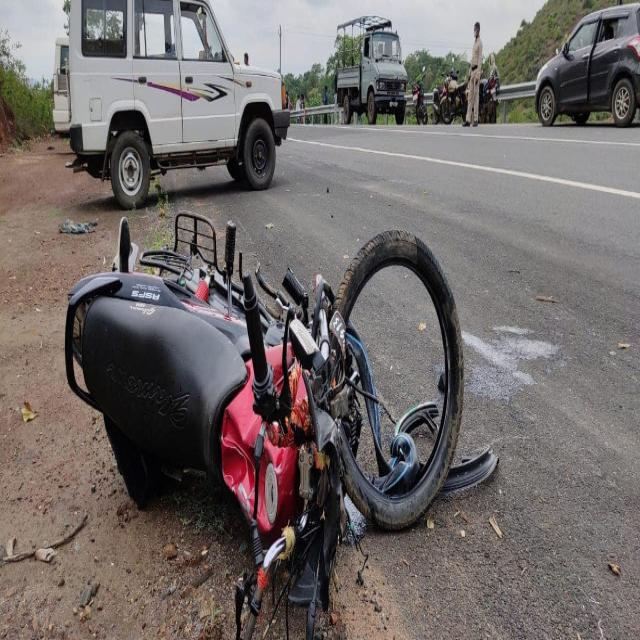accident: (65, 212, 496, 636)
car: (68, 0, 289, 207), (534, 3, 640, 127)
truck: (335, 16, 408, 125)
